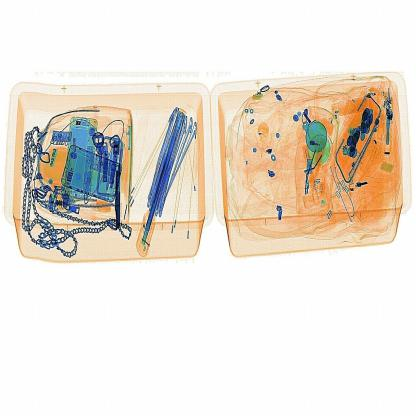pliers: (110, 161, 125, 230)
